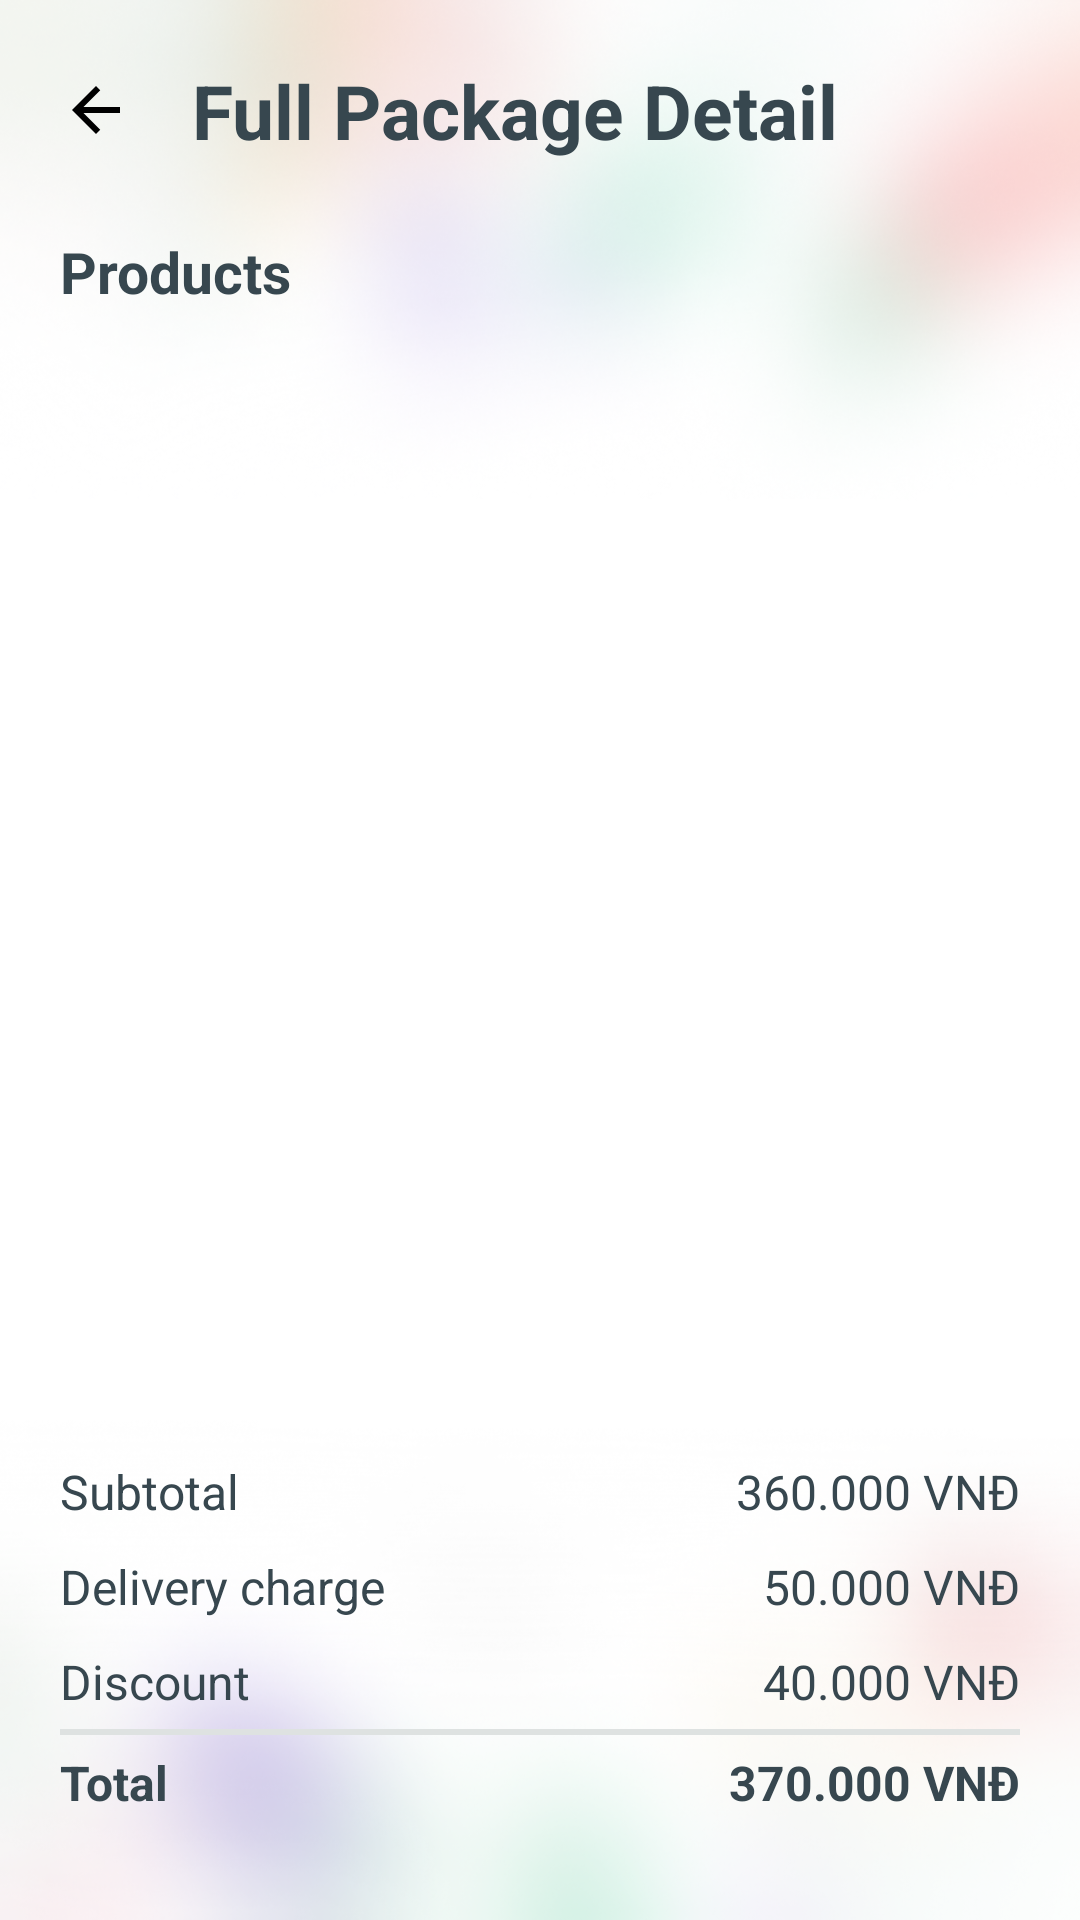

Locate icon controls on the screen. Image size 1080px x 1920px, boxes as (x1, y1, x2, y2).
arrow back: (72, 86, 120, 134)
